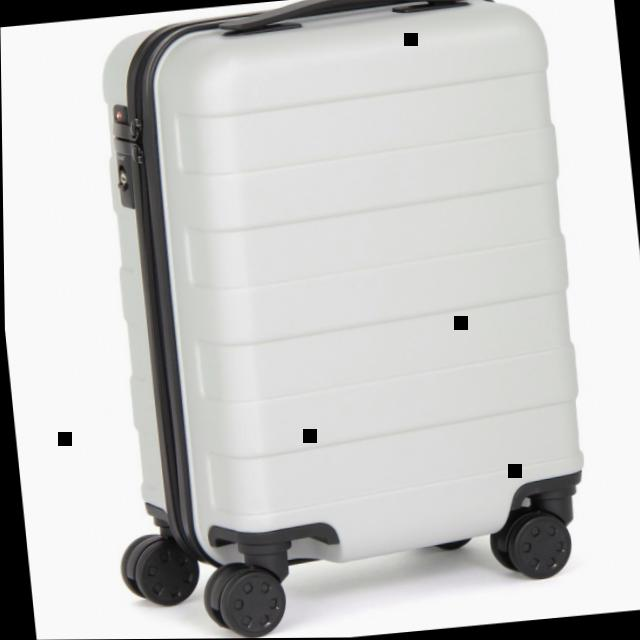luggage: (55, 0, 612, 640)
